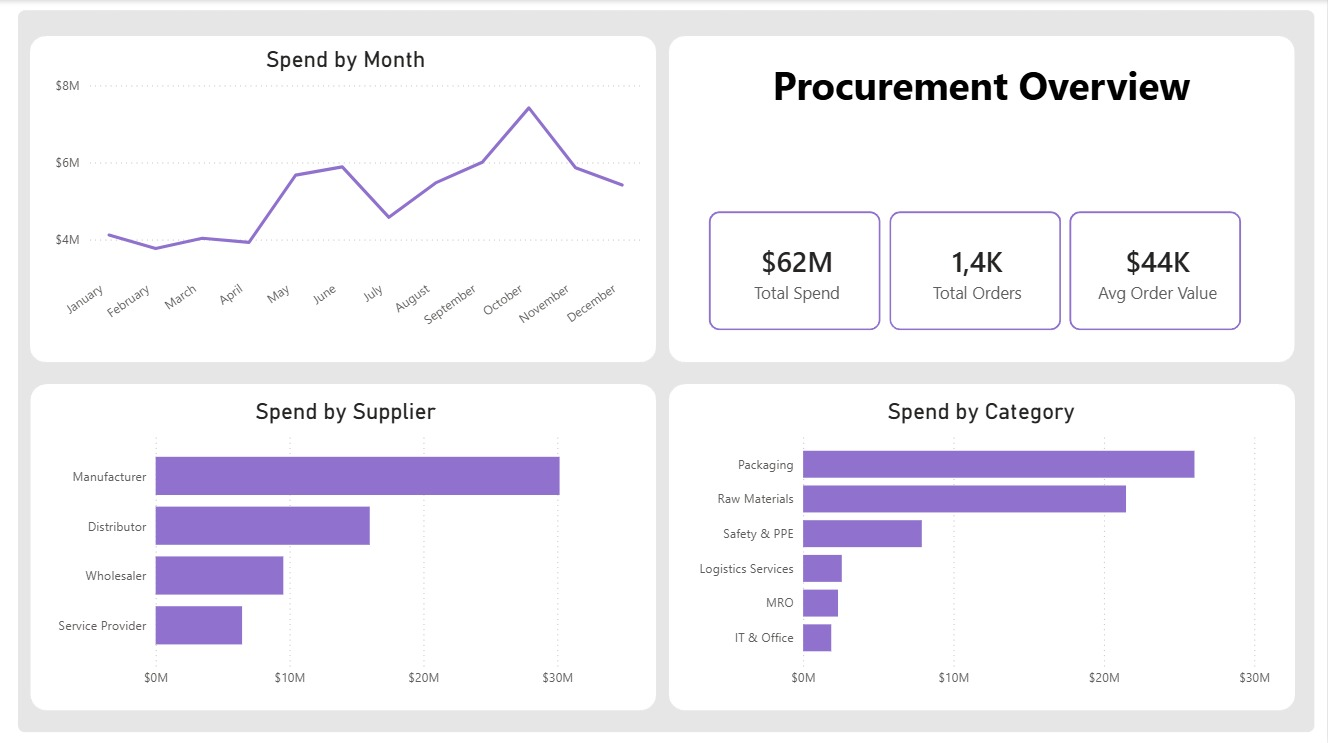

The page's visual inventory and layout, read from the dashboard file:
{"tool":"powerbi","page":{"name":"Procurement Overview","canvas":[1280,720],"ordinal":0},"visuals":[{"type":"clusteredBarChart","title":"Spend by Category","fields":{"Category":["dim_products.category"],"Y":["fact_purchase_orders.Total Spend"]},"box":[662.3,384.9,569.4,287.1],"z":3000},{"type":"barChart","title":"Spend by Supplier","fields":{"Y":["fact_purchase_orders.Total Spend"],"Category":["dim_suppliers.supplier_type"]},"box":[43.4,384.9,580.3,287.1],"z":4000},{"type":"lineChart","fields":{"Y":["fact_purchase_orders.Total Spend"],"Category":["dim_date.month_name"]},"box":[43.4,44.6,580.3,292],"z":5000},{"type":"textbox","box":[667.2,51.9,559.8,91.7],"z":5001},{"type":"cardVisual","fields":{"Data":["fact_purchase_orders.Total Spend","fact_purchase_orders.Total Orders","fact_purchase_orders.Avg Order Value"]},"box":[667.2,187,550.1,149.6],"z":5002}]}

Visuals, with their boxes in screenshot pixels (x1, y1, x2, y2), scaled from the page's 1280x720 canvas onto the 1328x743 screenshot:
"Spend by Category" clusteredBarChart: region(687, 397, 1278, 693)
"Spend by Supplier" barChart: region(45, 397, 647, 693)
lineChart - fact_purchase_orders.Total Spend x dim_date.month_name: region(45, 46, 647, 347)
textbox: region(692, 54, 1273, 148)
cardVisual - fact_purchase_orders.Total Spend x fact_purchase_orders.Total Orders: region(692, 193, 1263, 347)
